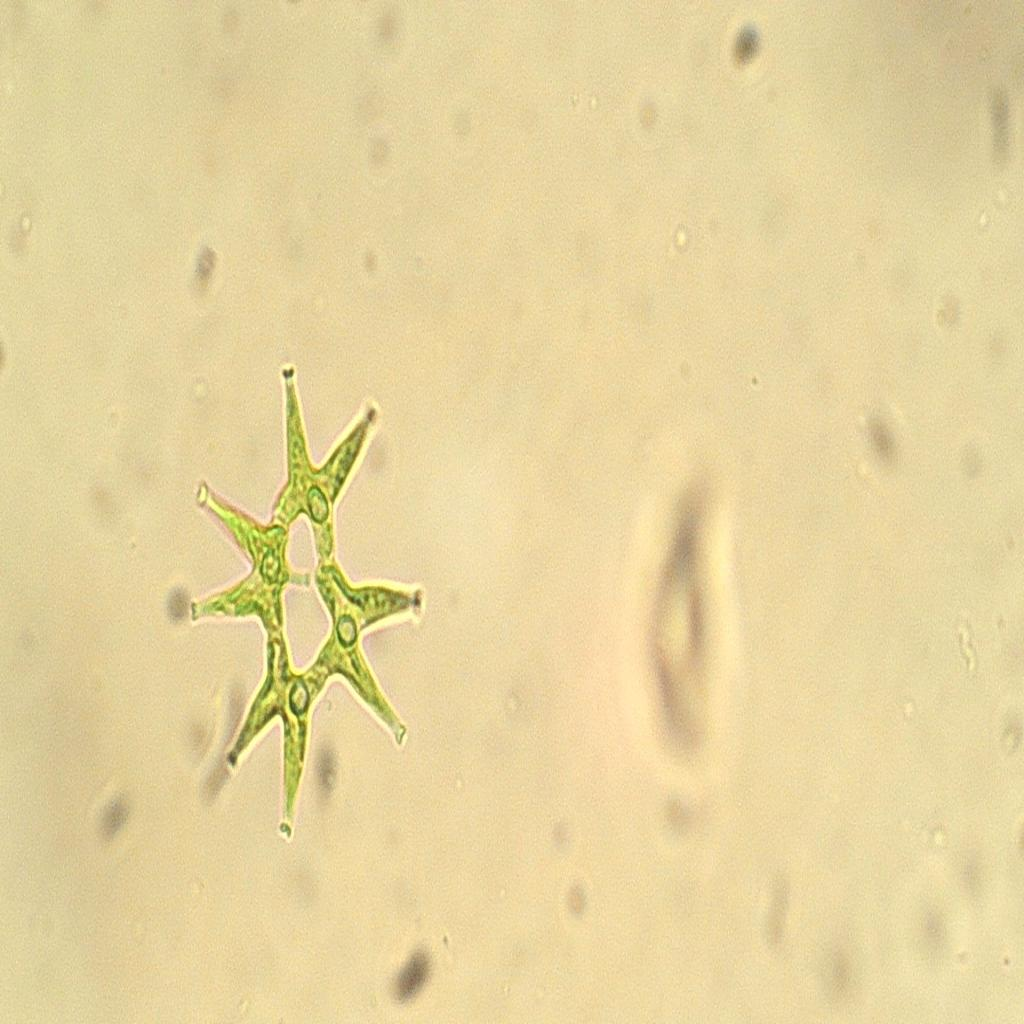Pediastrum_CF: (183, 339, 429, 855)
